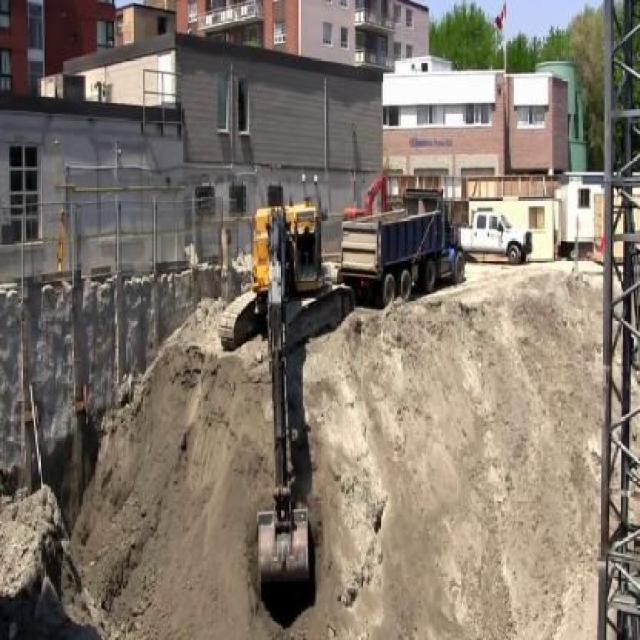dump_truck: (340, 185, 465, 302)
excavator: (217, 183, 354, 594)
